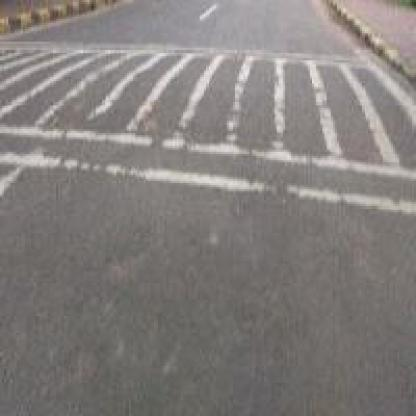Speed Bump: (0, 44, 410, 208)
